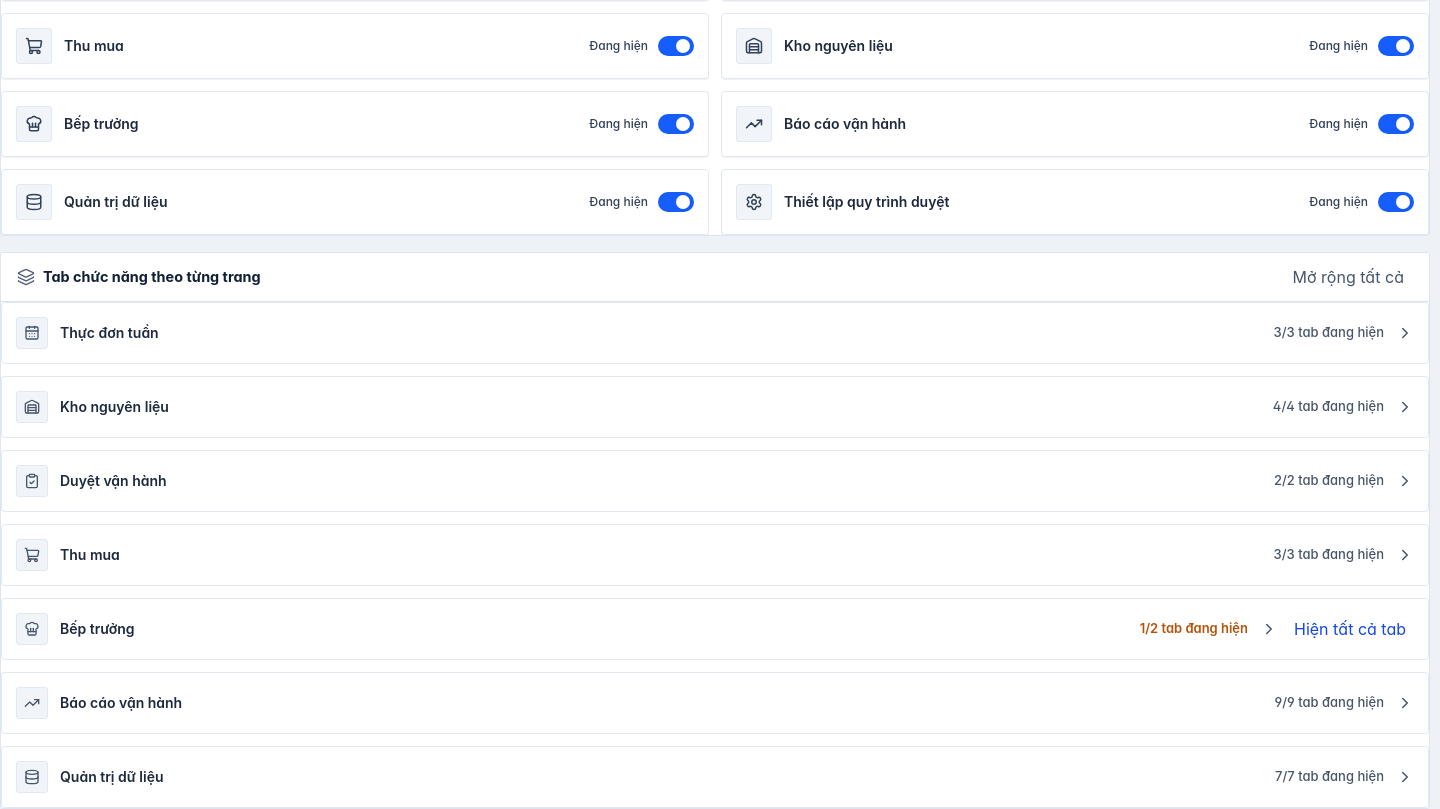
AdvancedDisplaySettings Component › guards against disabling the last remaining tab in a page tab group
(page scrolled)
Note: Expand Chef group
Step 1. Click the button with aria-label "Mở nhóm Bếp trưởng" → (32, 629), box [16,613,1278,645]
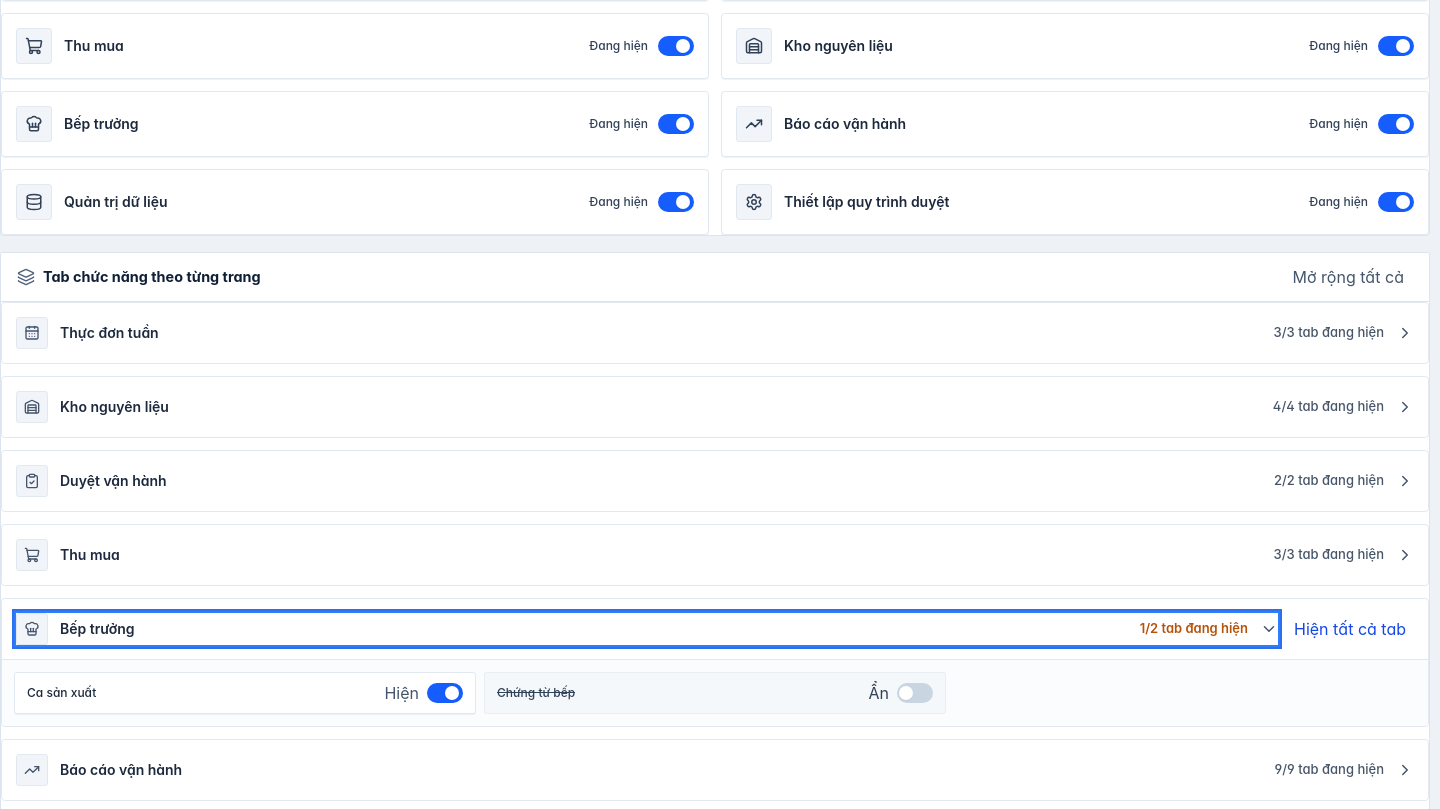
Step 2. Click the switch named "Bếp trưởng, Ca sản xuất, đang hiện" → (62, 692), box [14,672,476,714]
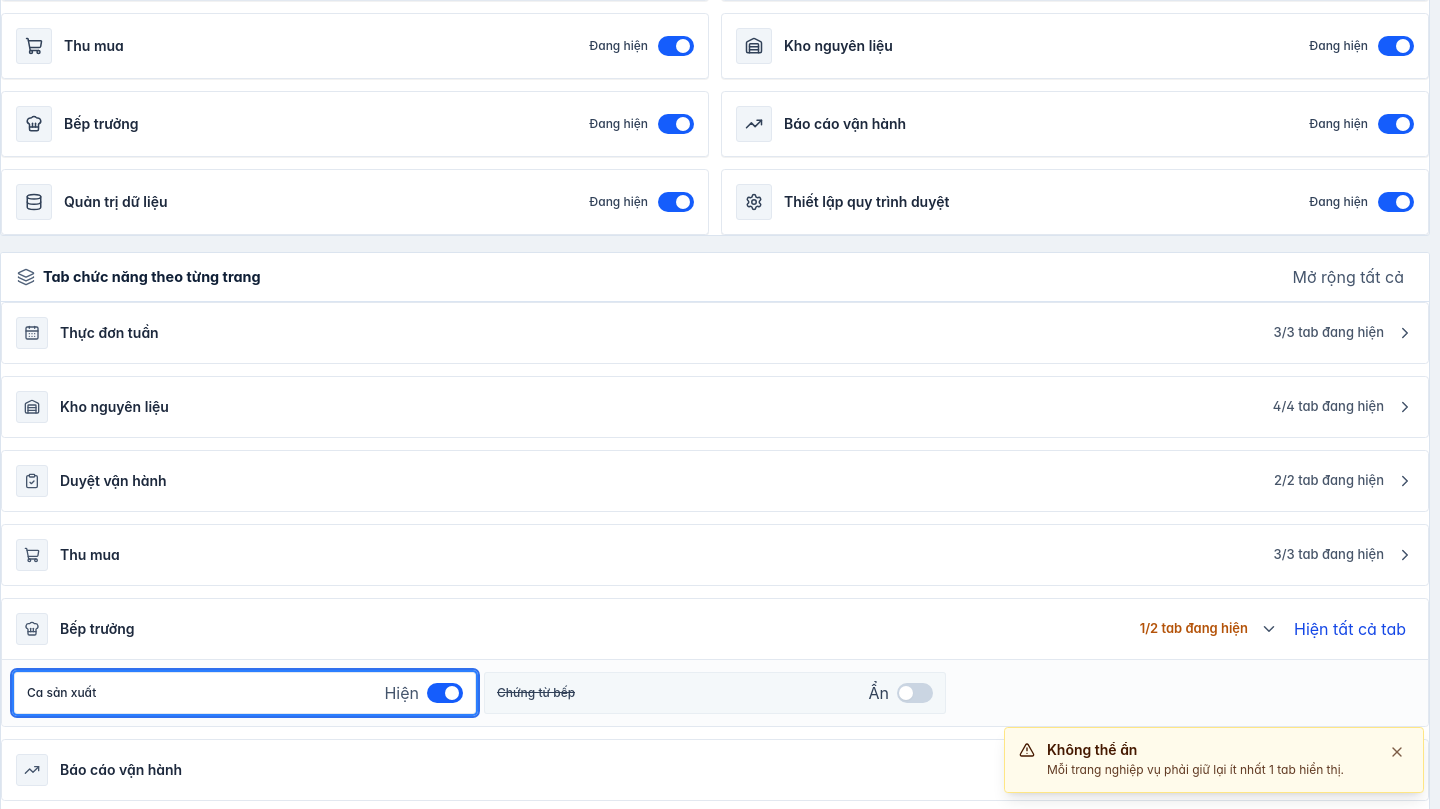
Check: the text "Không thể ẩn" is shown, box [1047,741,1138,758]
Check: the text "Mỗi trang nghiệp vụ phải giữ lại ít nhất 1 tab hiển thị." is shown, box [1047,760,1373,780]
